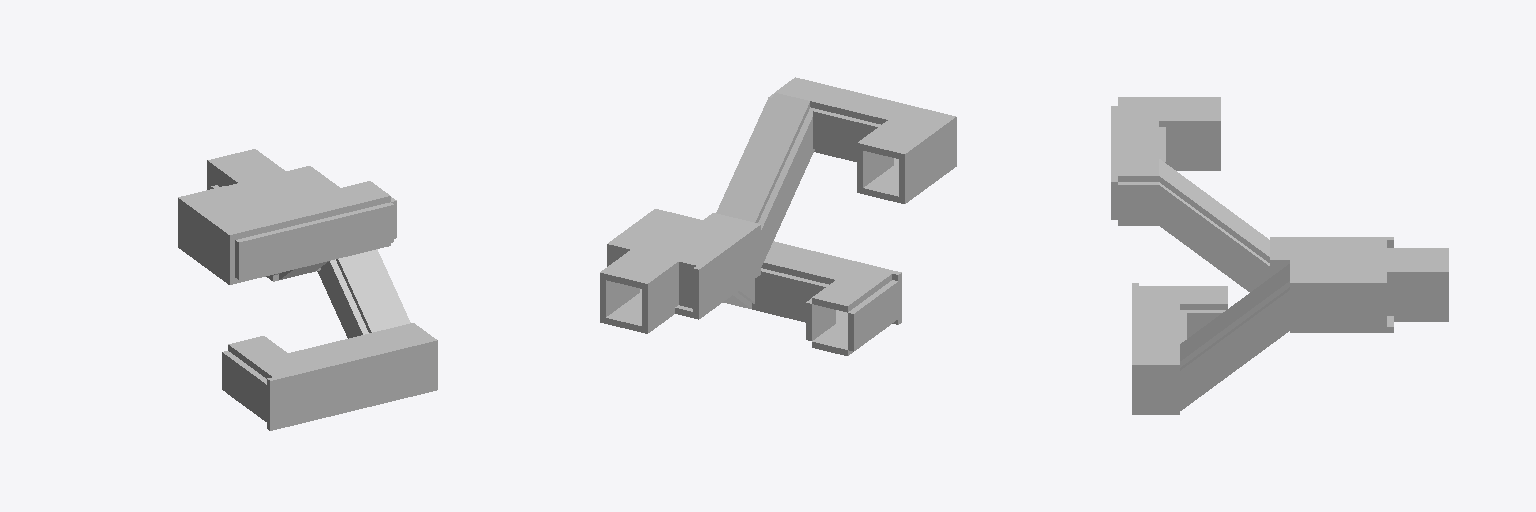
Rendered from full_stairs.obj.
3 views of the same model, side by side, from view 1: azimuth 30°, elevation 25°; view 2: azimuth 150°, elevation 25°; view 3: azimuth 270°, elevation 25° (orthographic).
Visible parts, largest first — view 1: plane, cuboid; view 2: plane, cuboid; view 3: plane, cuboid.
Part boxes in pixels (left/top/right/bottom): plane: left=178, top=149, right=437, bottom=430; cuboid: left=273, top=249, right=410, bottom=338; plane: left=600, top=77, right=956, bottom=355; cuboid: left=716, top=93, right=815, bottom=308; plane: left=1111, top=97, right=1448, bottom=414; cuboid: left=1159, top=159, right=1289, bottom=410.
Size of the model in its own units: 2.25 by 2.12 by 3.06.